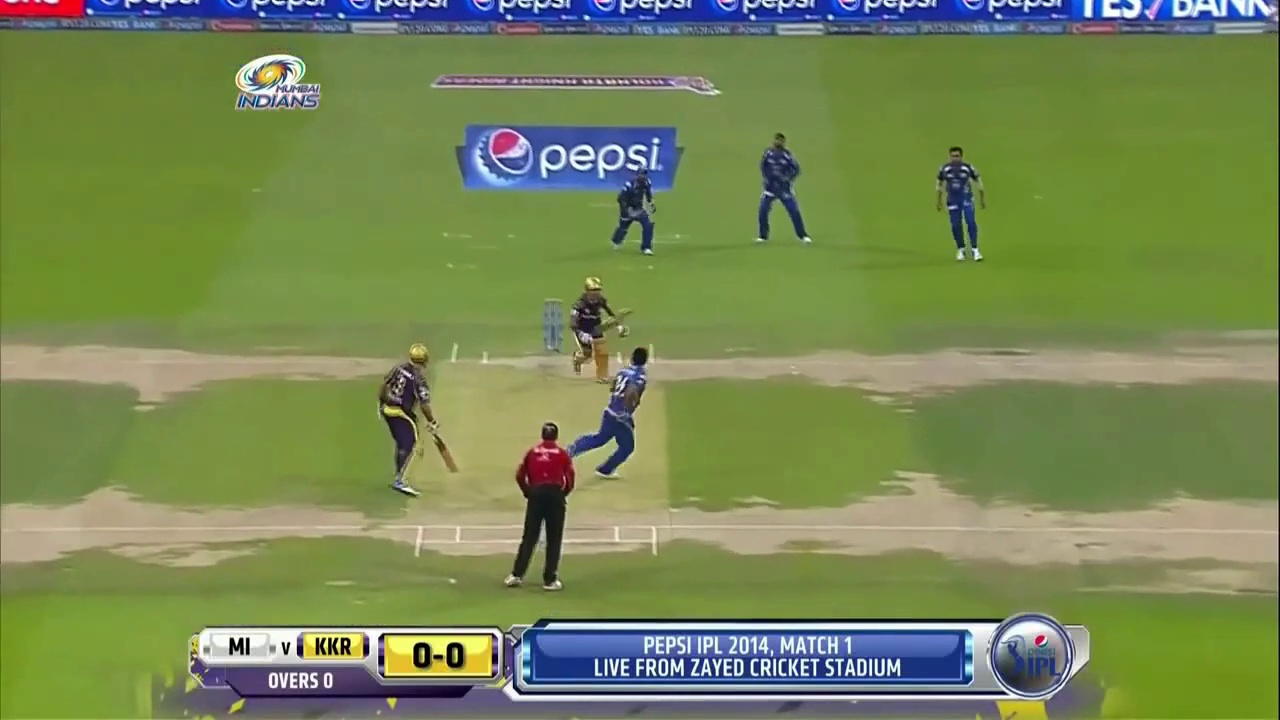bat: (432, 433, 458, 471)
